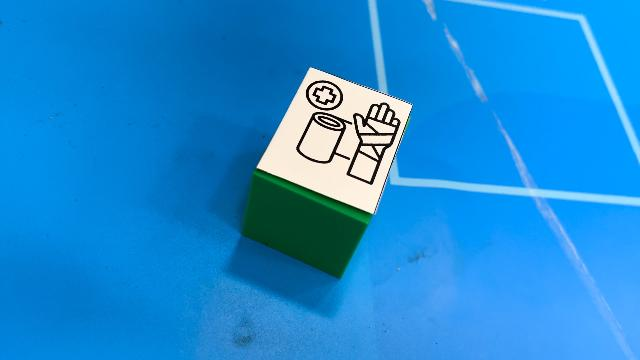bandage: (241, 68, 413, 278)
